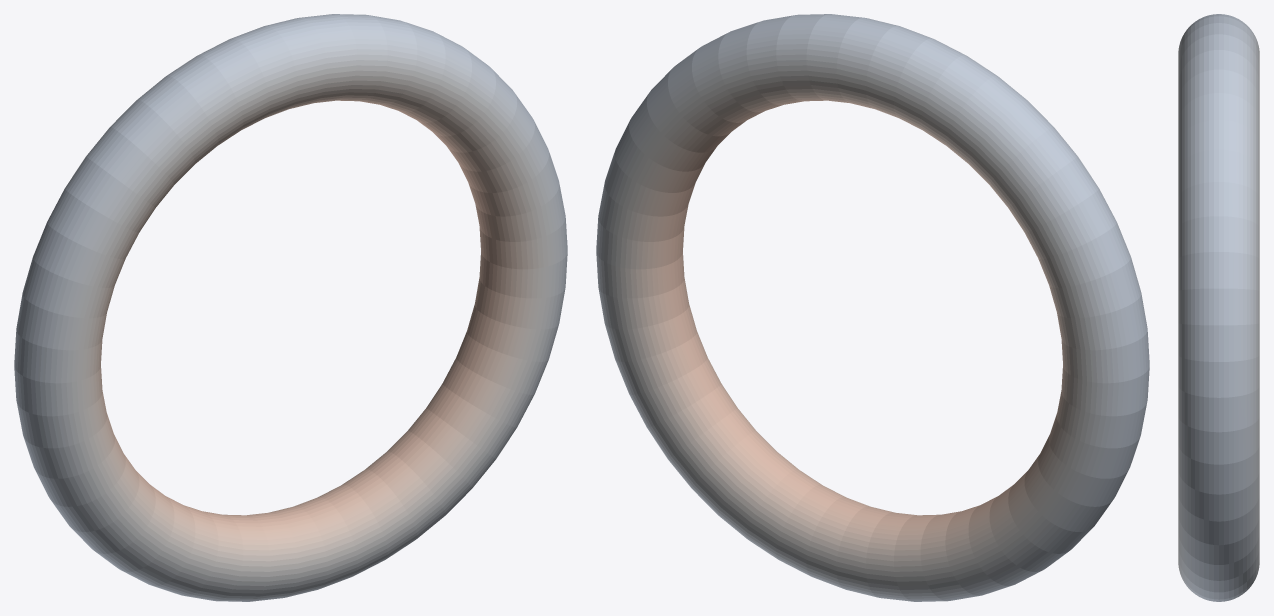
3 renders of one model, left to right at view 1: azimuth 30°, elevation 25°; view 2: azimuth 150°, elevation 25°; view 3: azimuth 270°, elevation 25°, orthographic. The views are drawn at different scales.
Parts seen in each view (by area): view 1: world; view 2: world; view 3: world.
Boxes of the visible parts, box(x1,y1,x2,y2) form: world: box(14, 14, 567, 601); world: box(596, 14, 1149, 601); world: box(1178, 14, 1259, 601).
Size of the model in its own units: 31.73 by 31.67 by 4.39.
